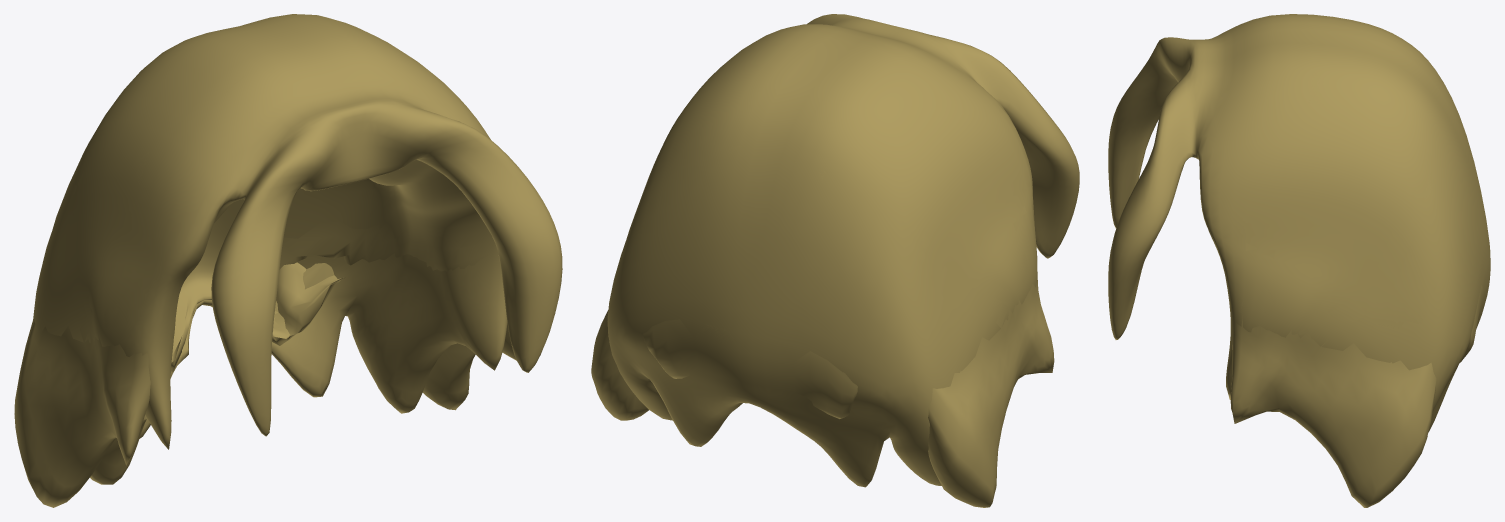
Rendered from Female Sort Hair (Base, Hat, & Jumper).fbx.
3 renders of one model, left to right at view 1: azimuth 30°, elevation 25°; view 2: azimuth 150°, elevation 25°; view 3: azimuth 270°, elevation 25°, orthographic. The views are drawn at different scales.
Visible parts, largest first — view 1: Female_Hair_Short_Smooth, Female_Hair_Short_Jumper__Smooth, Female_Hair_Short_Hat_Smooth; view 2: Female_Hair_Short_Smooth, Female_Hair_Short_Jumper__Smooth; view 3: Female_Hair_Short_Smooth, Female_Hair_Short_Jumper__Smooth.
Part boxes in pixels (x1=…): Female_Hair_Short_Smooth: x1=33, y1=14, x2=562, y2=484; Female_Hair_Short_Jumper__Smooth: x1=14, y1=49, x2=562, y2=507; Female_Hair_Short_Hat_Smooth: x1=147, y1=203, x2=507, y2=442; Female_Hair_Short_Smooth: x1=607, y1=14, x2=1079, y2=487; Female_Hair_Short_Jumper__Smooth: x1=591, y1=17, x2=1075, y2=507; Female_Hair_Short_Smooth: x1=1108, y1=14, x2=1490, y2=432; Female_Hair_Short_Jumper__Smooth: x1=1110, y1=23, x2=1490, y2=507.
Bounding box in the file's own units: 1.97 × 1.91 × 1.72.
